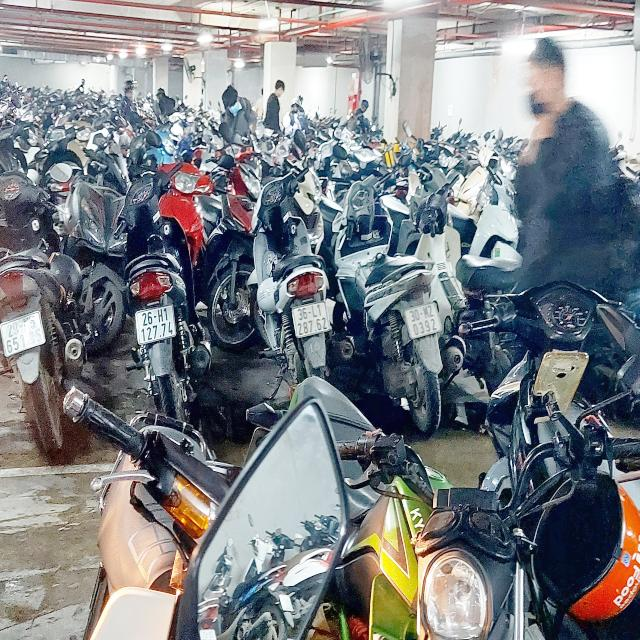license_plate: (1, 312, 45, 358), (136, 307, 175, 345), (405, 301, 443, 339), (294, 303, 332, 339)
